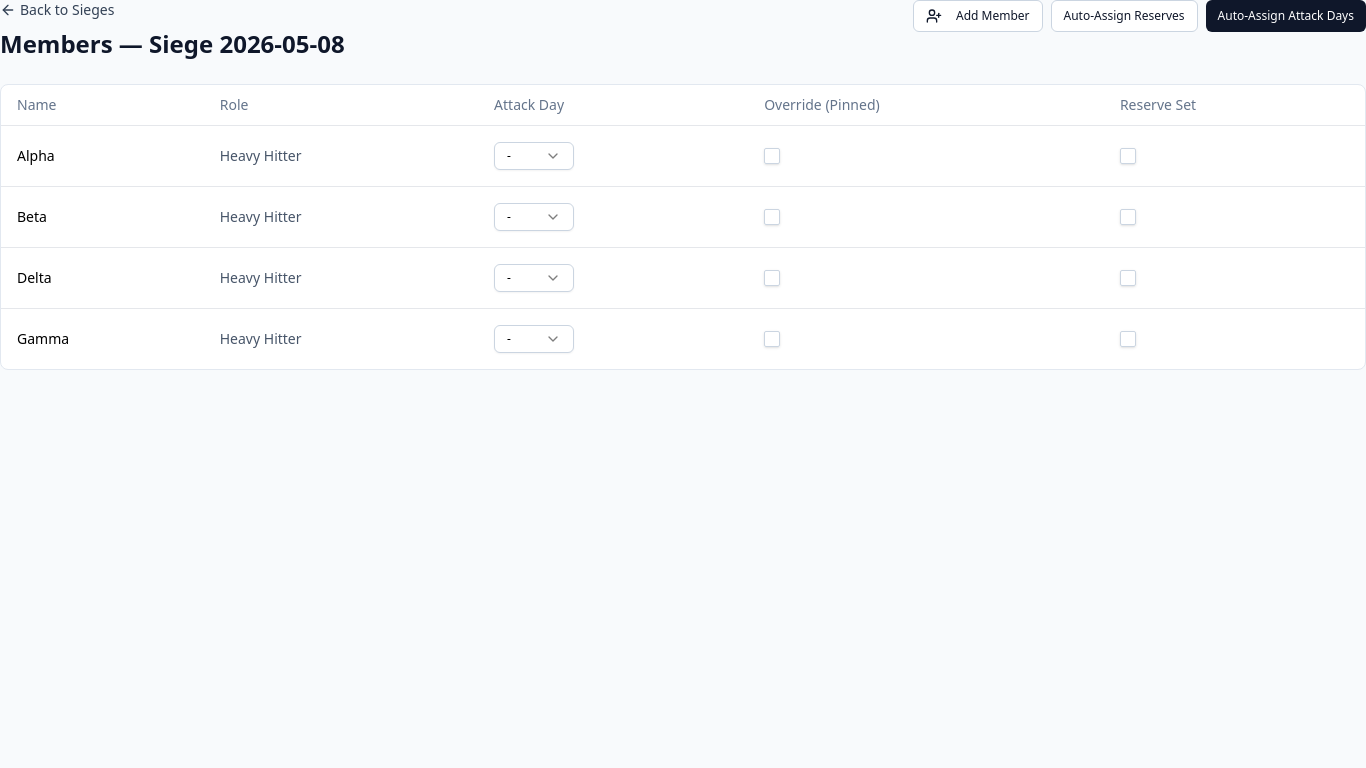
Test: SiegeMembersPage — Attack Day Preview dialog (no empty cells) › asymmetric (bug repro): Day 1 longer than Day 2 — no empty cells in Day 2
Click the button "Auto-Assign Attack Days" at (1286, 16), box x1=1206 y1=0 x2=1365 y2=32
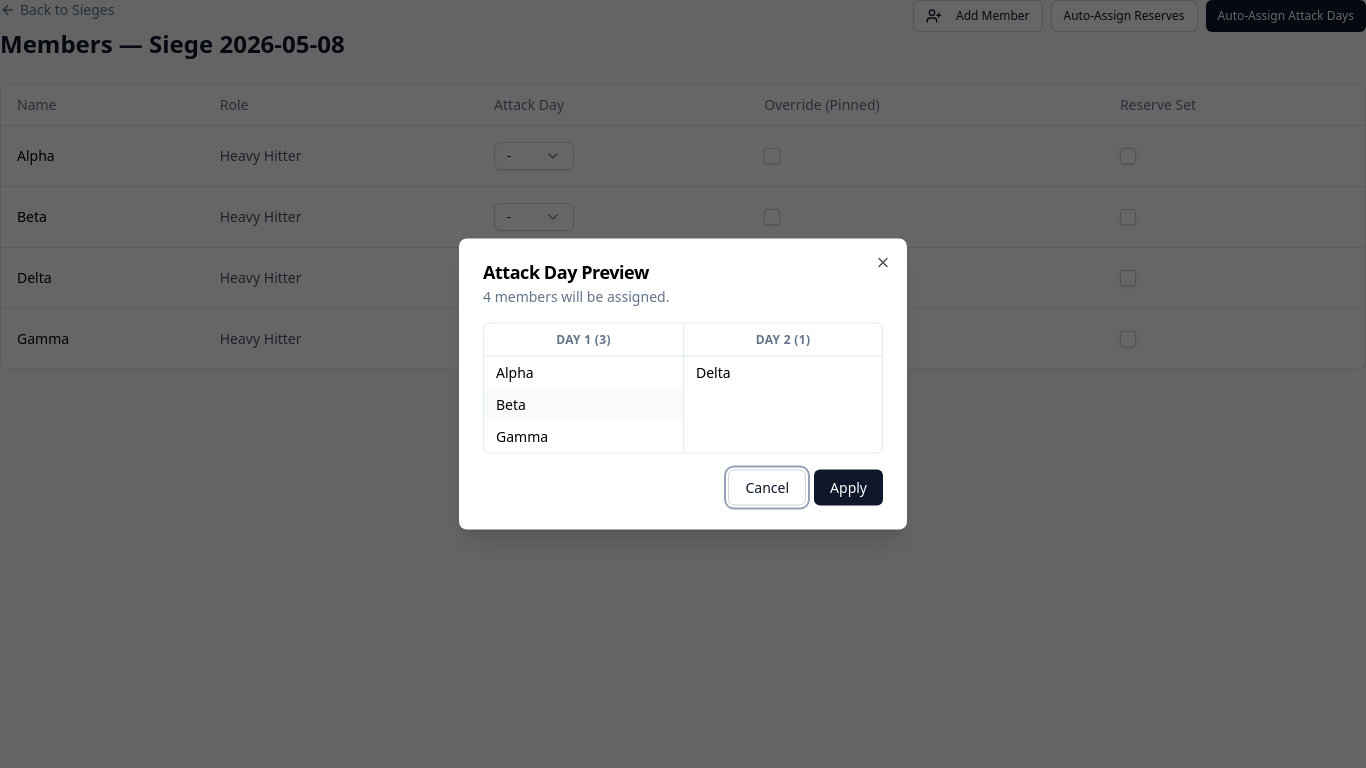
Now the heading "Attack Day Preview" is shown, box x1=483 y1=260 x2=649 y2=284
Now the text "Alpha" is shown 4 times, box x1=496 y1=362 x2=534 y2=382; x1=484 y1=388 x2=683 y2=420; x1=496 y1=426 x2=548 y2=446; x1=696 y1=362 x2=731 y2=382
